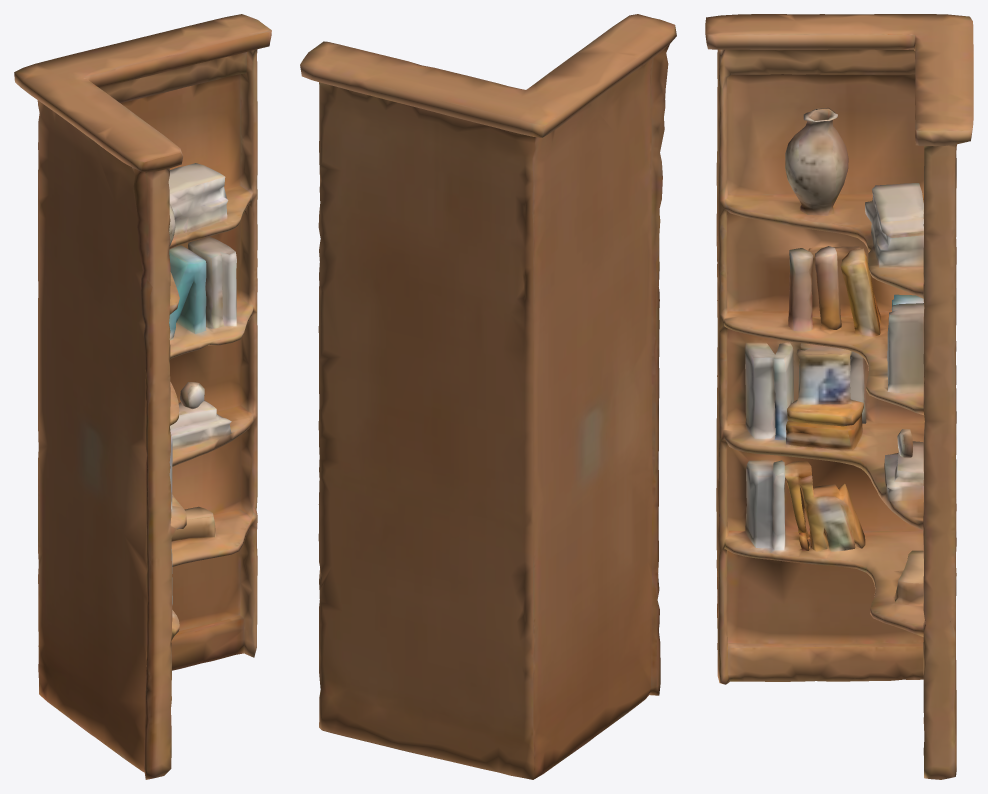
File: 14_bookshelf_2.glb
3 renders of one model, left to right at view 1: azimuth 30°, elevation 25°; view 2: azimuth 150°, elevation 25°; view 3: azimuth 270°, elevation 25°, orthographic. The views are drawn at different scales.
Parts seen in each view (by area): view 1: geometry_0; view 2: geometry_0; view 3: geometry_0.
Boxes of the visible parts, box(x1,y1,x2,y2) form: geometry_0: box(14, 14, 271, 779); geometry_0: box(300, 14, 676, 779); geometry_0: box(705, 14, 973, 779).
Size of the model in its own units: 0.7455 by 1.9 by 0.7058.
1 material, 1 textured.
